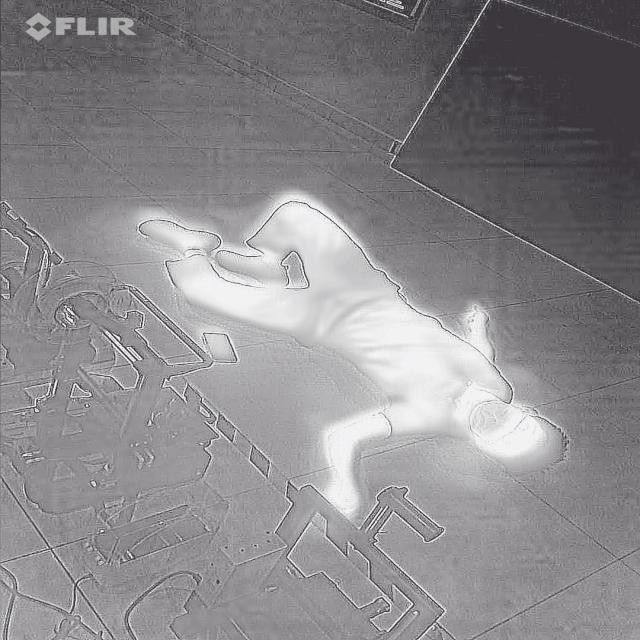Victim: (130, 185, 582, 526)
